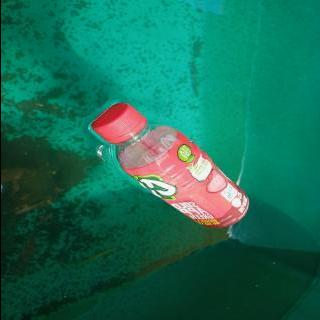bottle: (87, 100, 250, 232)
